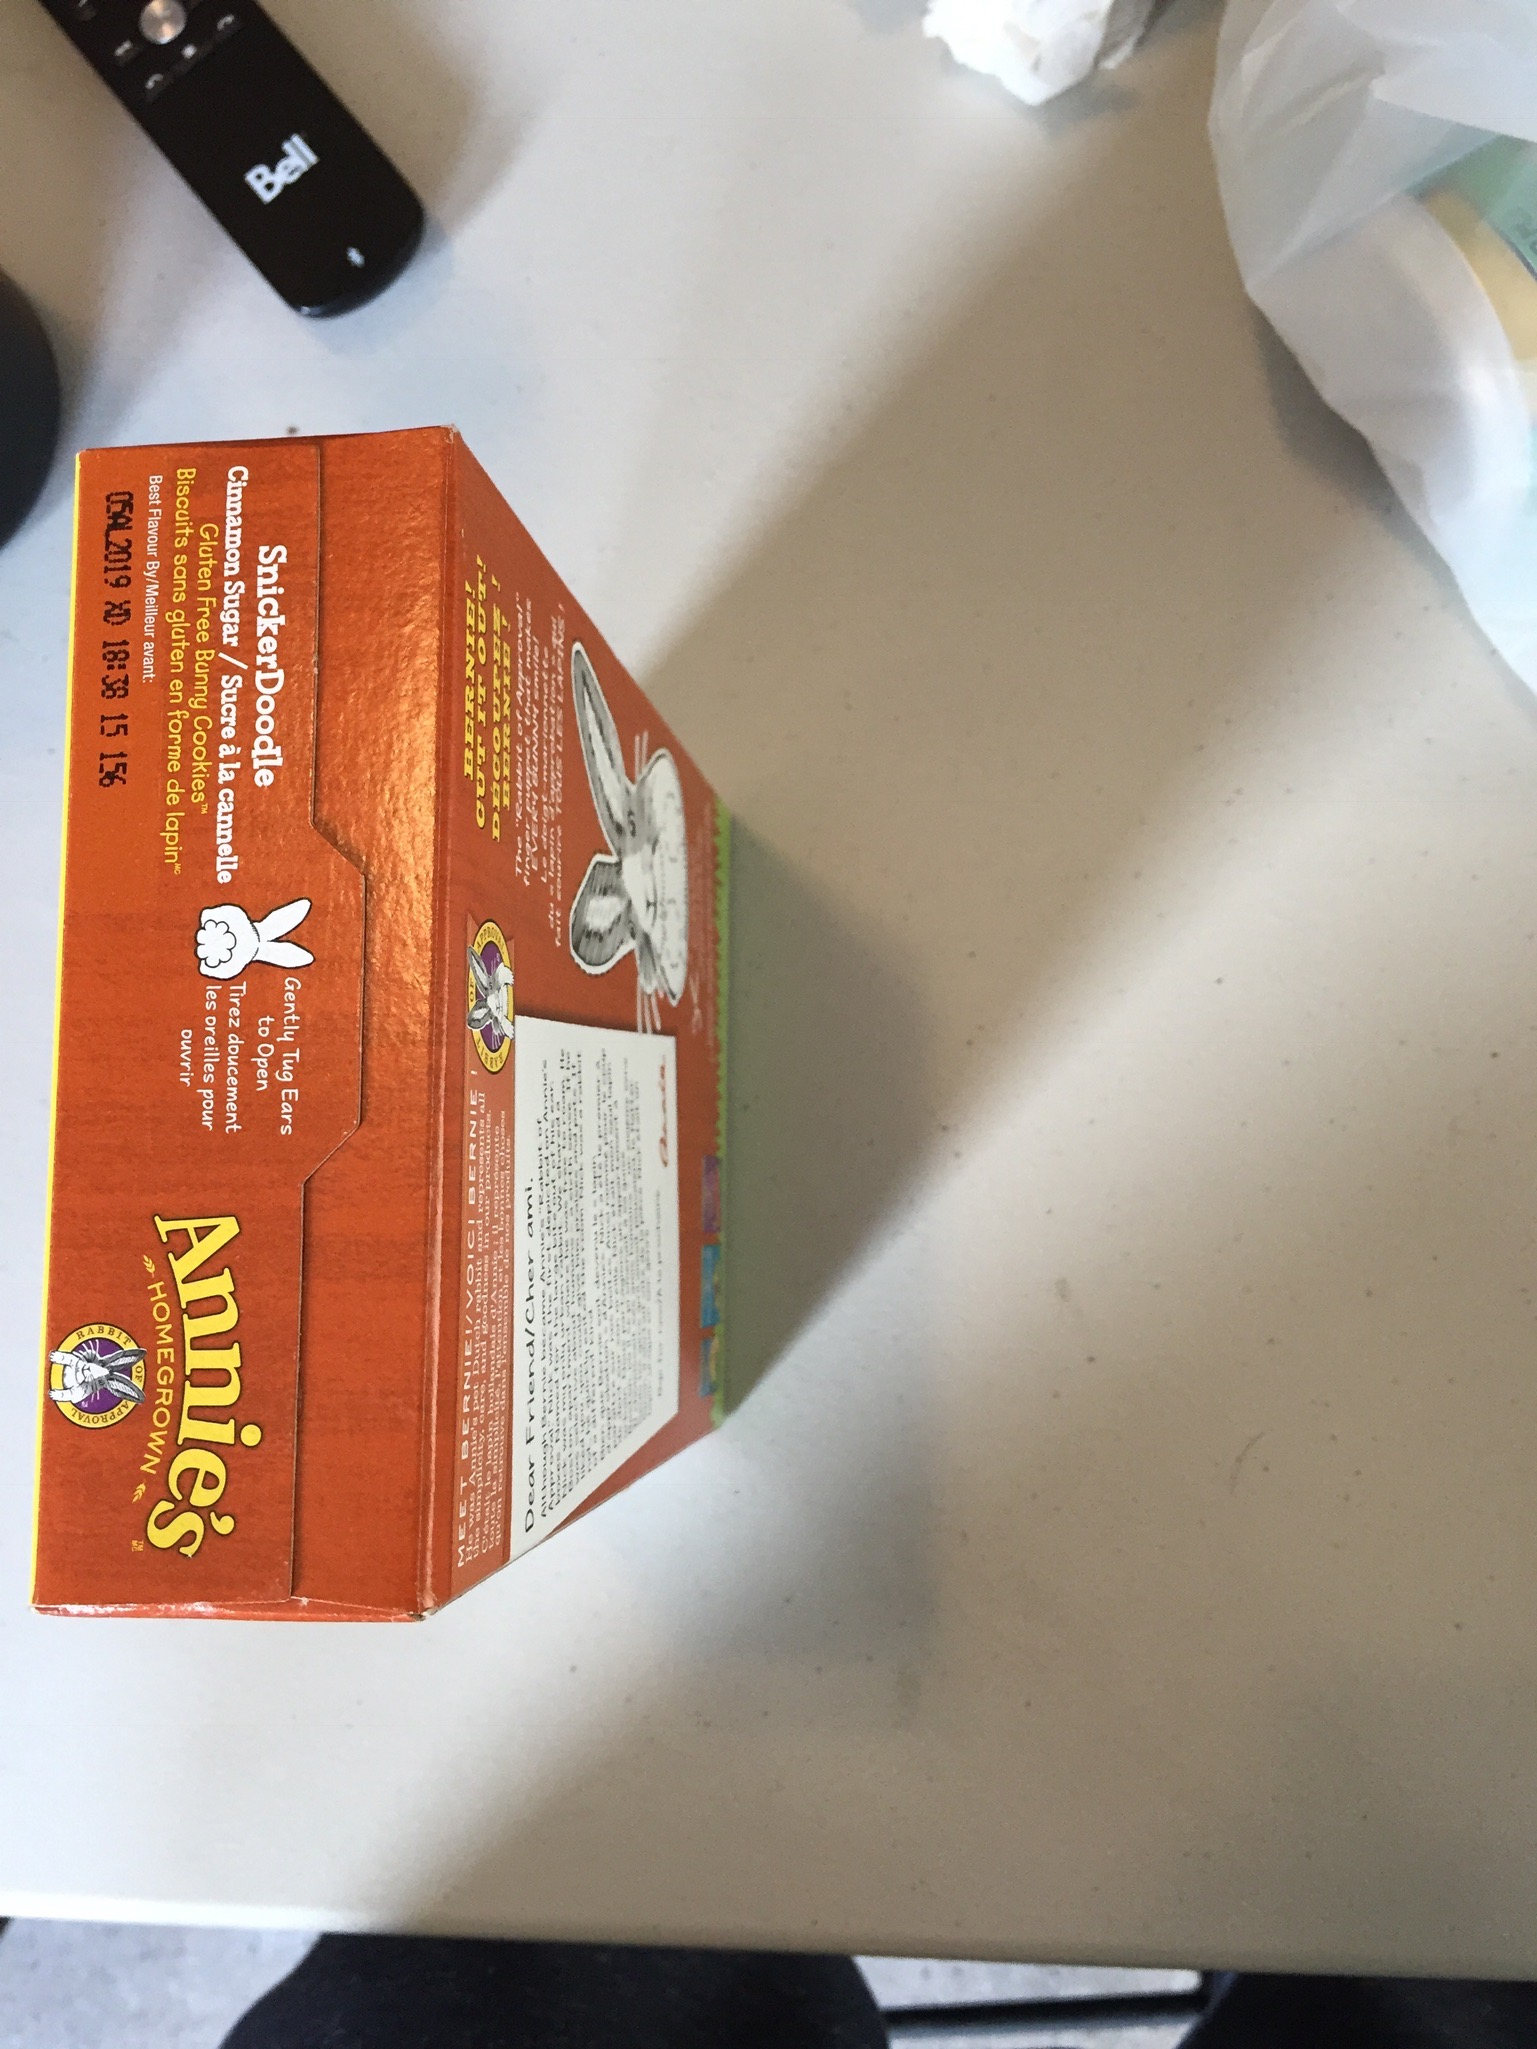annies_snickerdoodle_cinnamon_sugar: (89, 459, 534, 1578)
